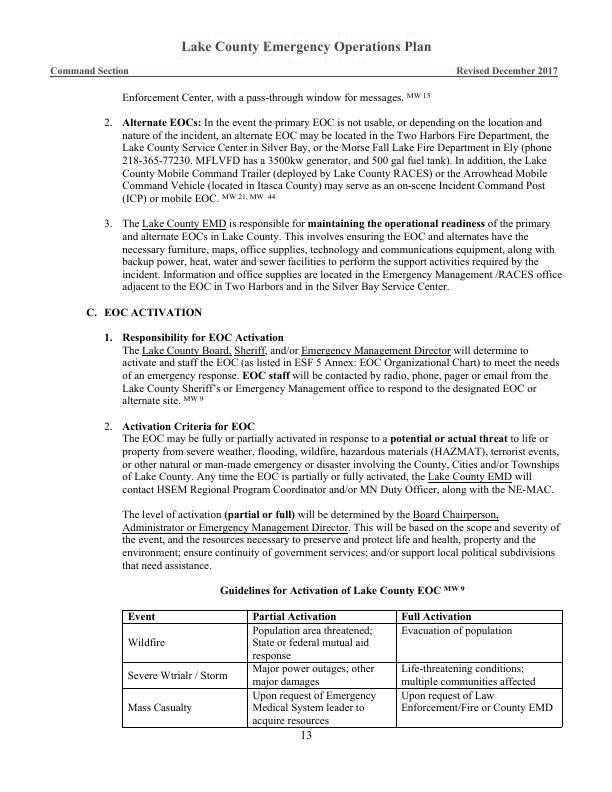table: (116, 604, 566, 730)
text: (99, 114, 552, 204), (99, 214, 569, 298), (99, 328, 564, 412), (99, 421, 567, 501), (117, 507, 566, 577), (120, 88, 432, 105), (175, 39, 434, 57), (218, 582, 467, 596), (79, 303, 207, 321), (455, 66, 559, 78), (48, 66, 133, 77)
